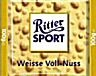grozi_67: (0, 0, 96, 75)
